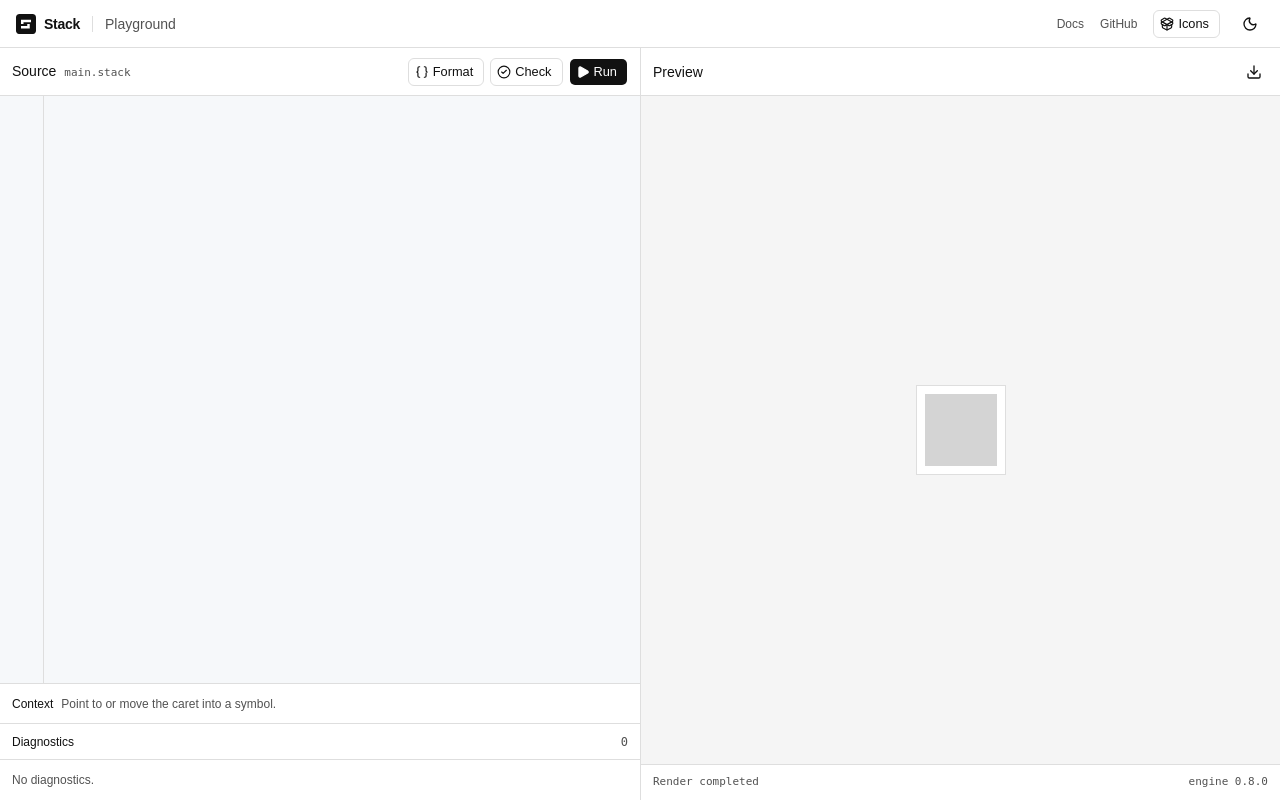
Scenario: Stack Playground › switches color mode and remembers the choice
What coordinates should you click on to do the following:
click the button named "Switch to dark mode"
I would click on:
 (1250, 24)
Its box is 1236,10 -> 1264,38.
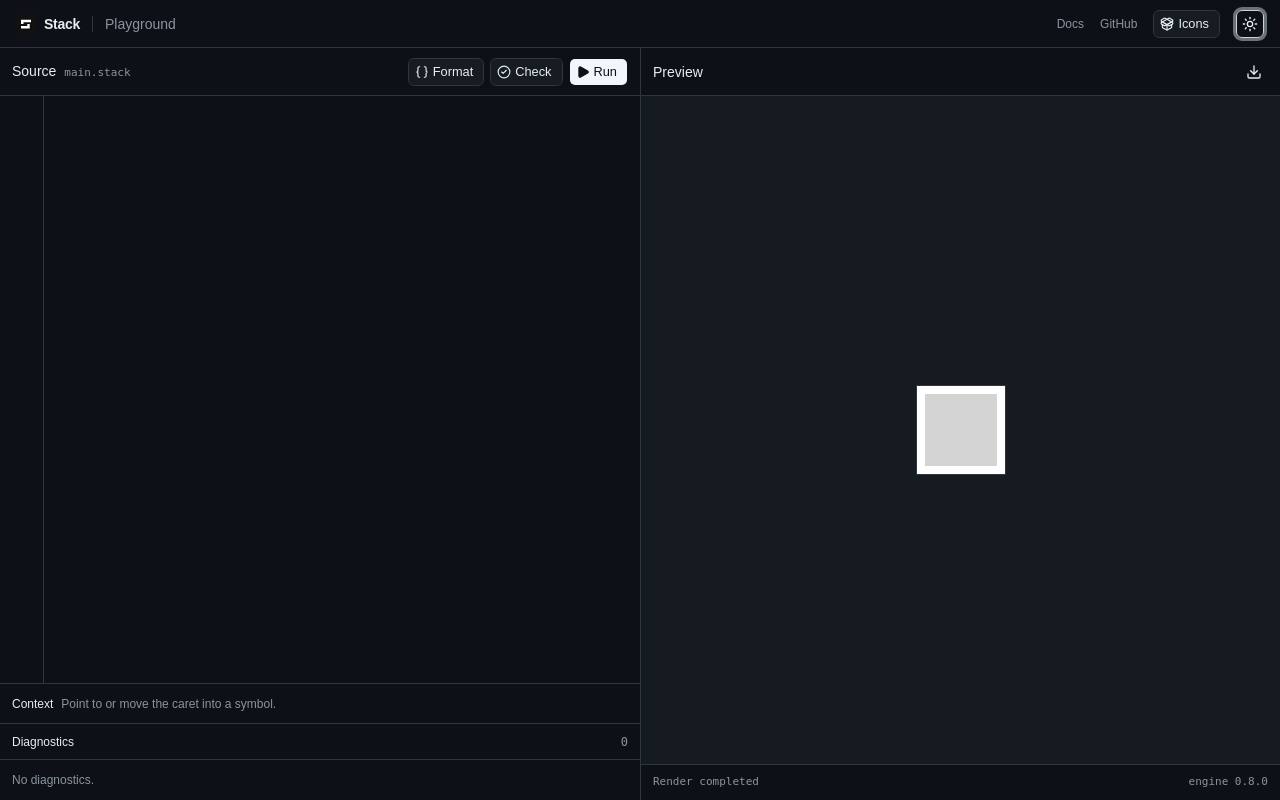
Now the button named "Switch to light mode" is shown, box 1236,10 -> 1264,38
